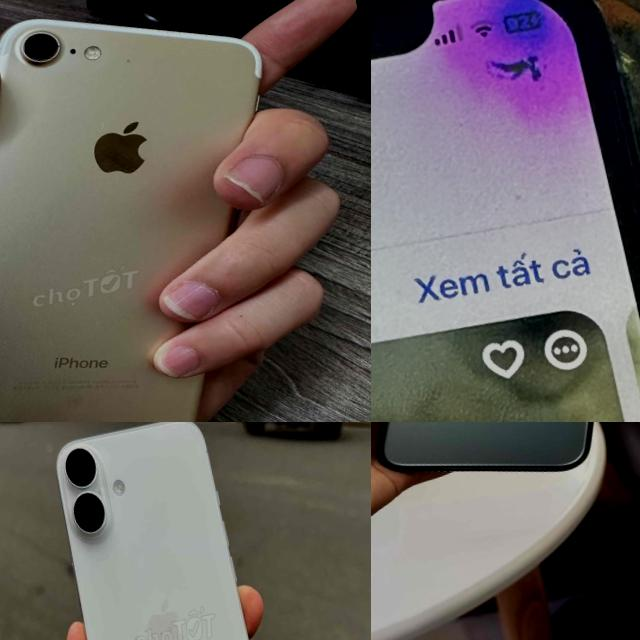gen_11: (371, 0, 640, 422), (371, 422, 640, 508)
gen_16: (33, 422, 298, 640)
gen_7_8: (0, 0, 346, 422)
scratch: (115, 50, 138, 70)
screen_defect: (423, 0, 608, 161)
